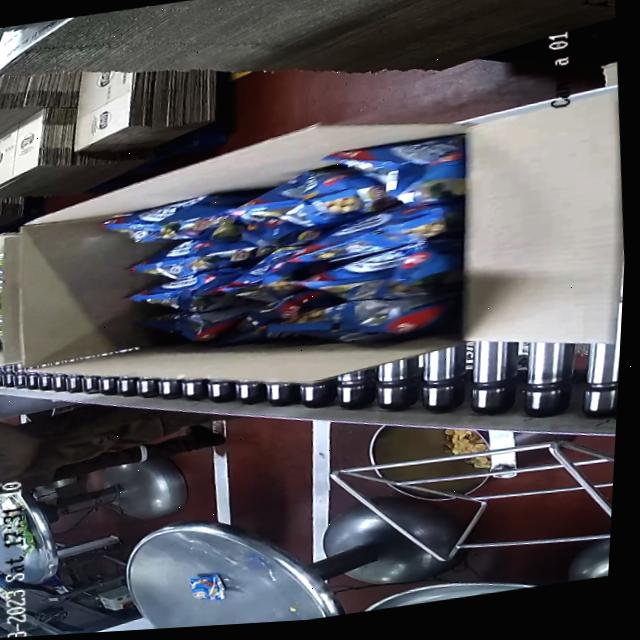PAPRIKA: (101, 148, 455, 378)
